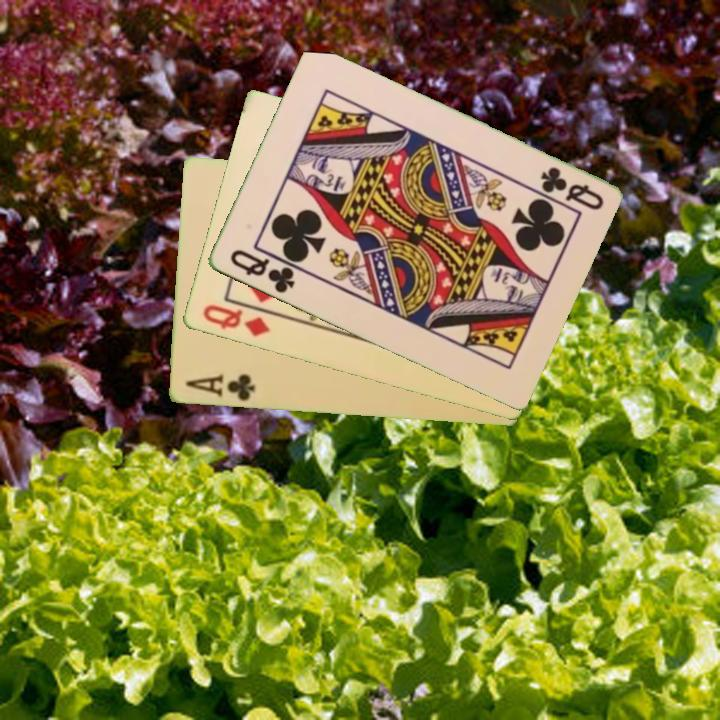Ac: (181, 370, 258, 404)
Qc: (225, 246, 298, 297), (536, 163, 607, 214)
Qd: (199, 301, 273, 340)
